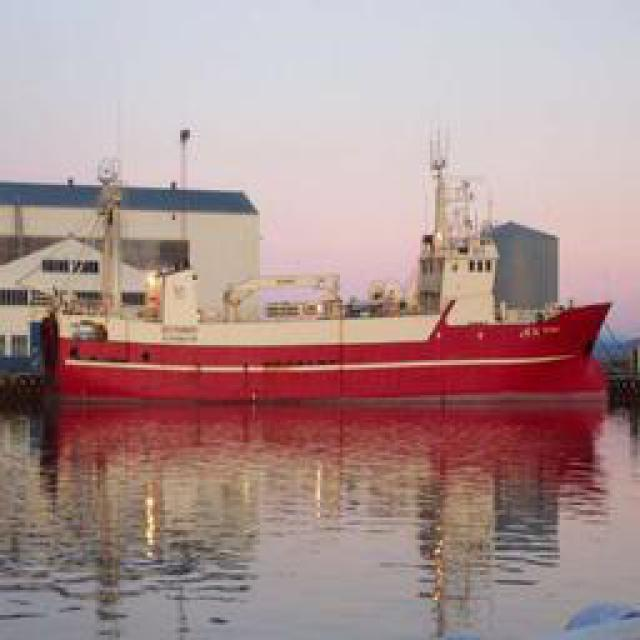Ship: (30, 180, 610, 395)
